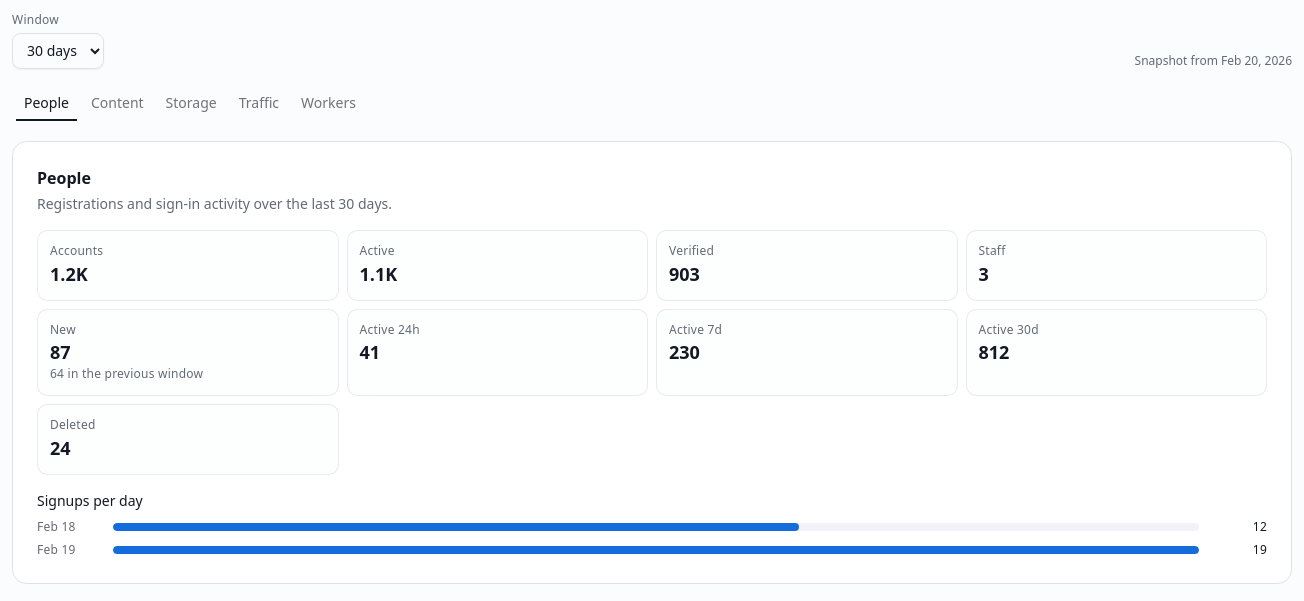
Test: Dashboard › says "no data" instead of zero when traffic and workers are unavailable
expect the heading "People" is shown: met, box [37,167,91,189]
Click the tab "Traffic" at (259, 103), box [230,88,288,117]
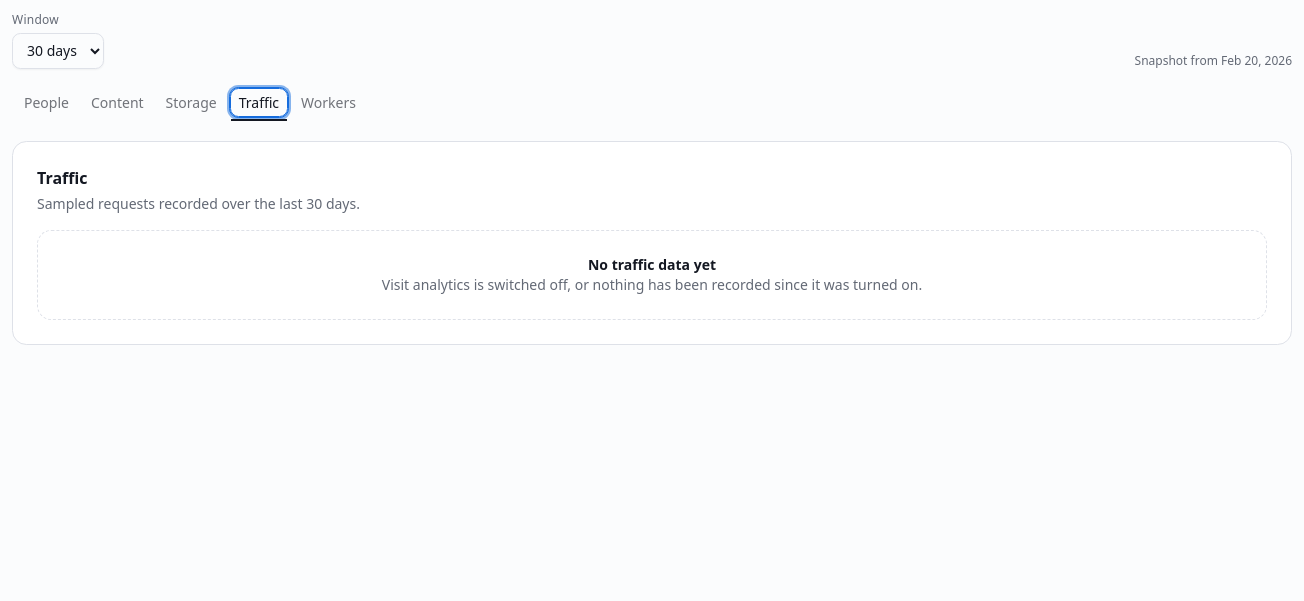
expect the heading "Traffic" is shown: met, box [37,167,88,189]
expect the heading "No traffic data yet" is shown: met, box [588,255,716,274]
Click the tab "Workers" at (329, 103), box [292,88,365,117]
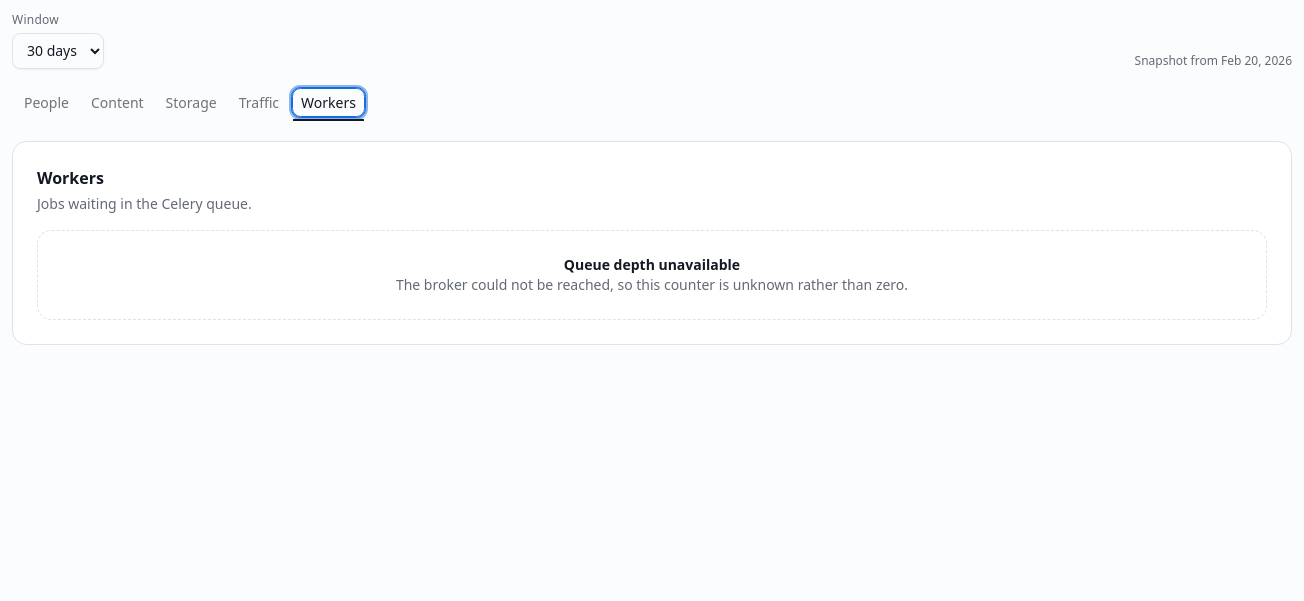
expect the heading "Workers" is shown: met, box [37,167,104,189]
expect the heading "Queue depth unavailable" is shown: met, box [564,255,740,274]
